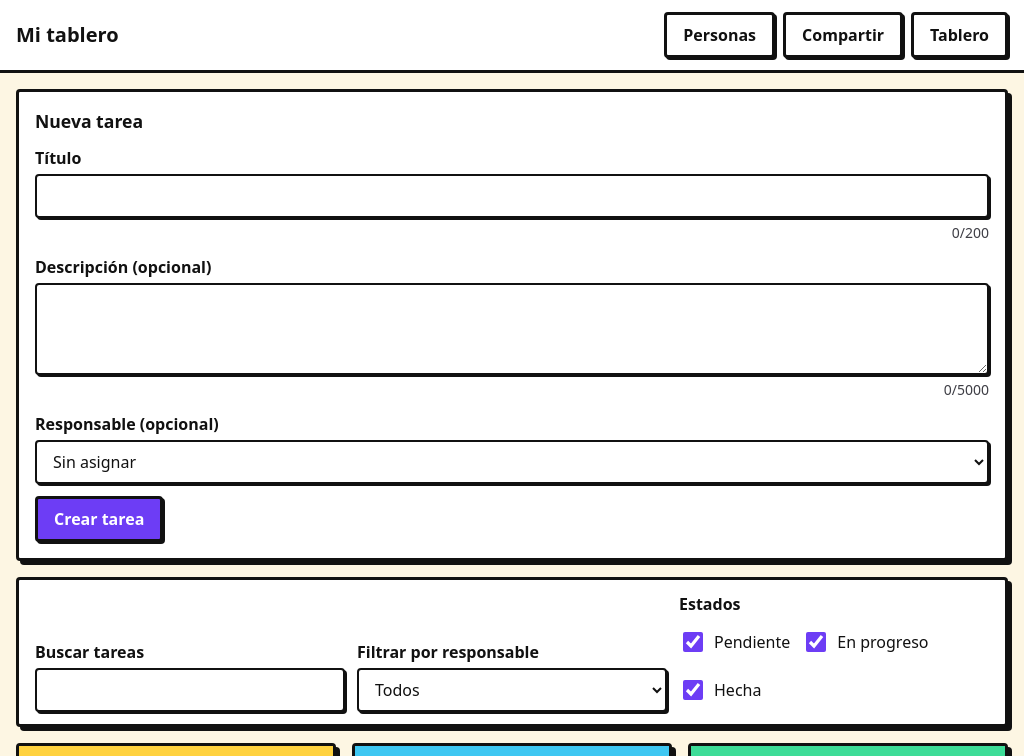
Test: gestionar el tablero desde la cabecera › borrar el tablero (US4, FR-115, FR-116) › al borrar vuelve al inicio con el aviso y sin el código en el fragmento
Expected: the heading "Mi tablero" is shown, [16,20,119,50]
Click the button "Tablero": (960, 35) [911,12,1008,58]
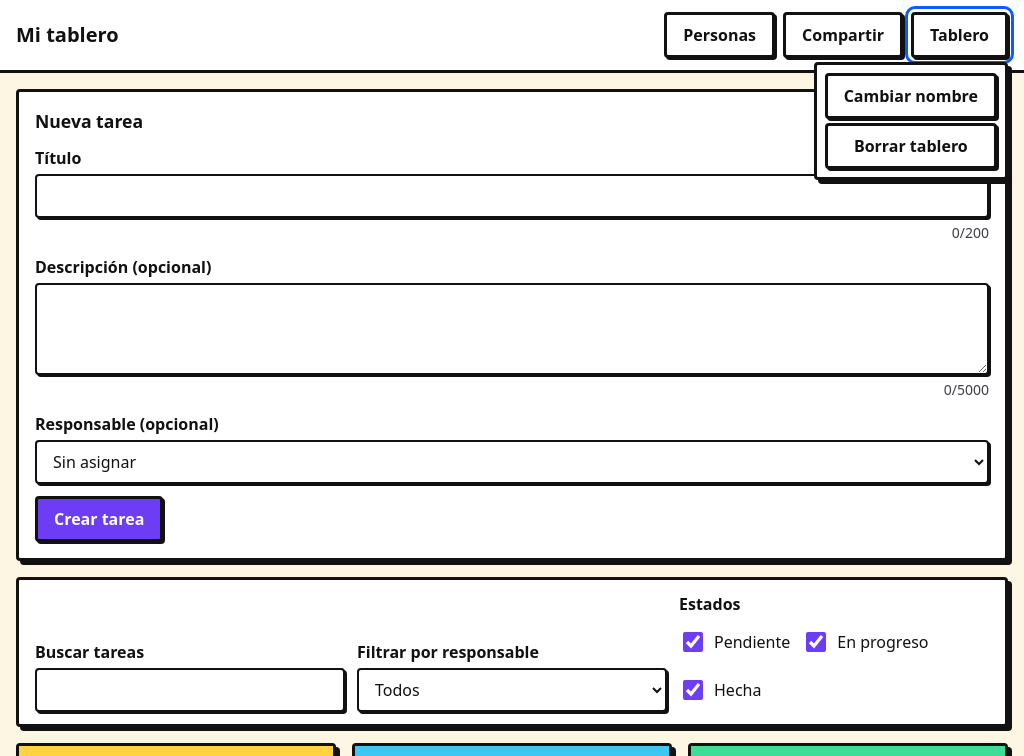
Click the button "Borrar tablero": (911, 146) [825,123,997,169]
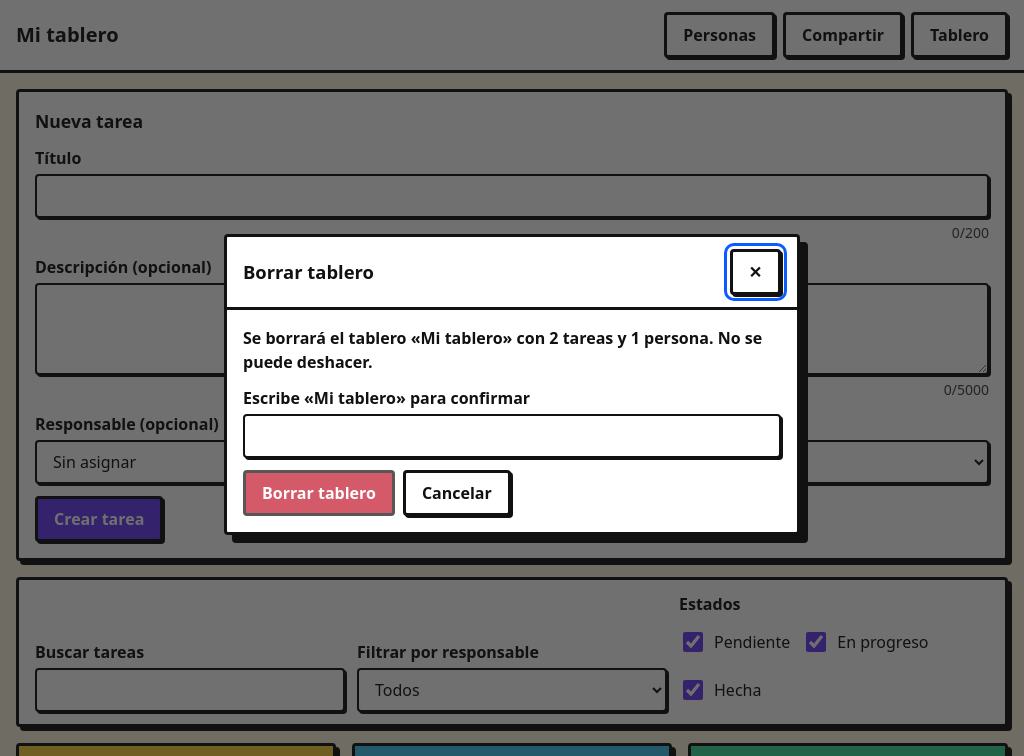
In the field labelled "Escribe «Mi tablero» para confirmar": (512, 436) [243,414,781,458], type "Mi tablero"
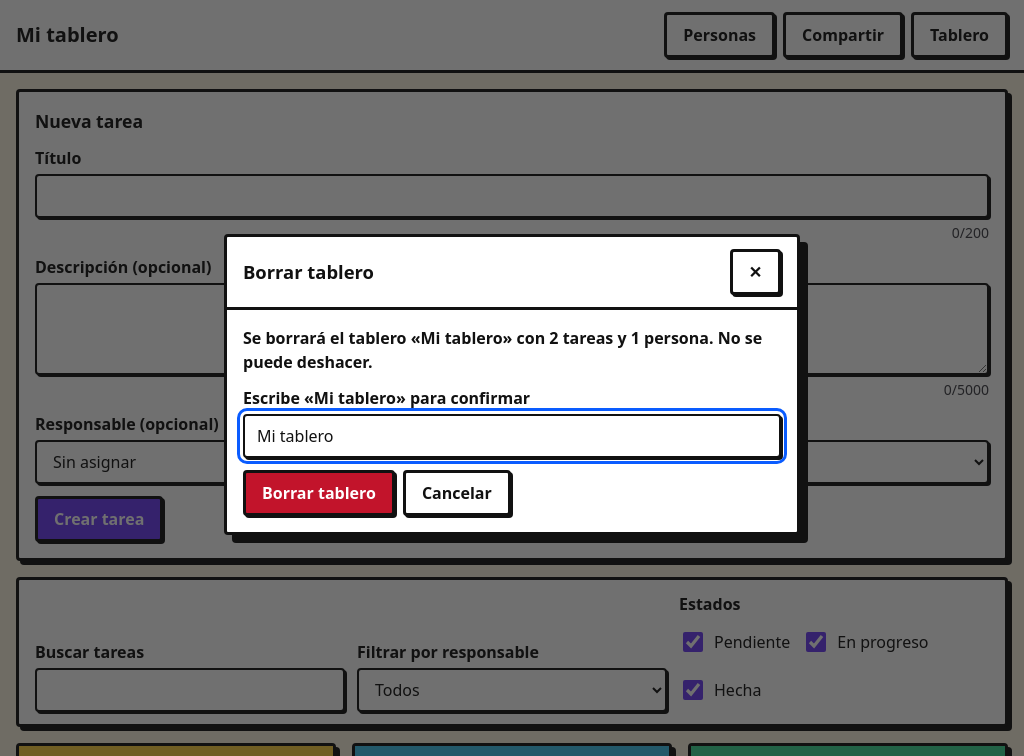
Click the button "Borrar tablero": (319, 492) [243,470,395,516]
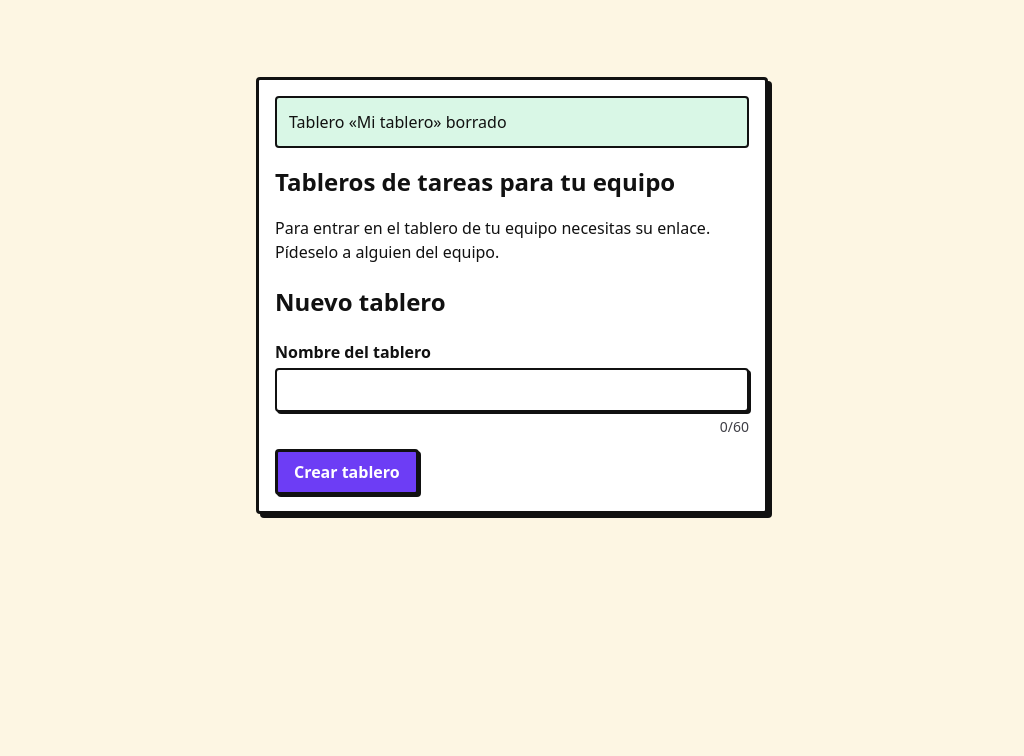
Expected: the heading "Tableros de tareas para tu equipo" is shown, [275,165,675,198]
Expected: the text "Tablero «Mi tablero» borrado" is shown, [275,96,749,148]
